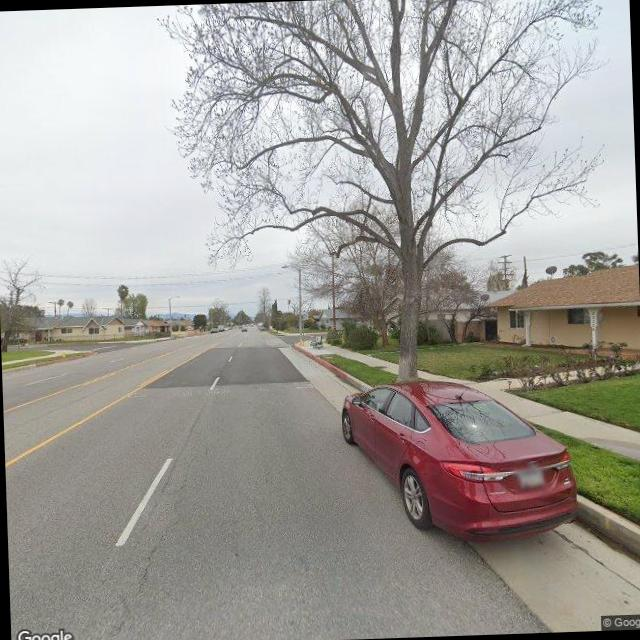pothole: (132, 543, 158, 592)
